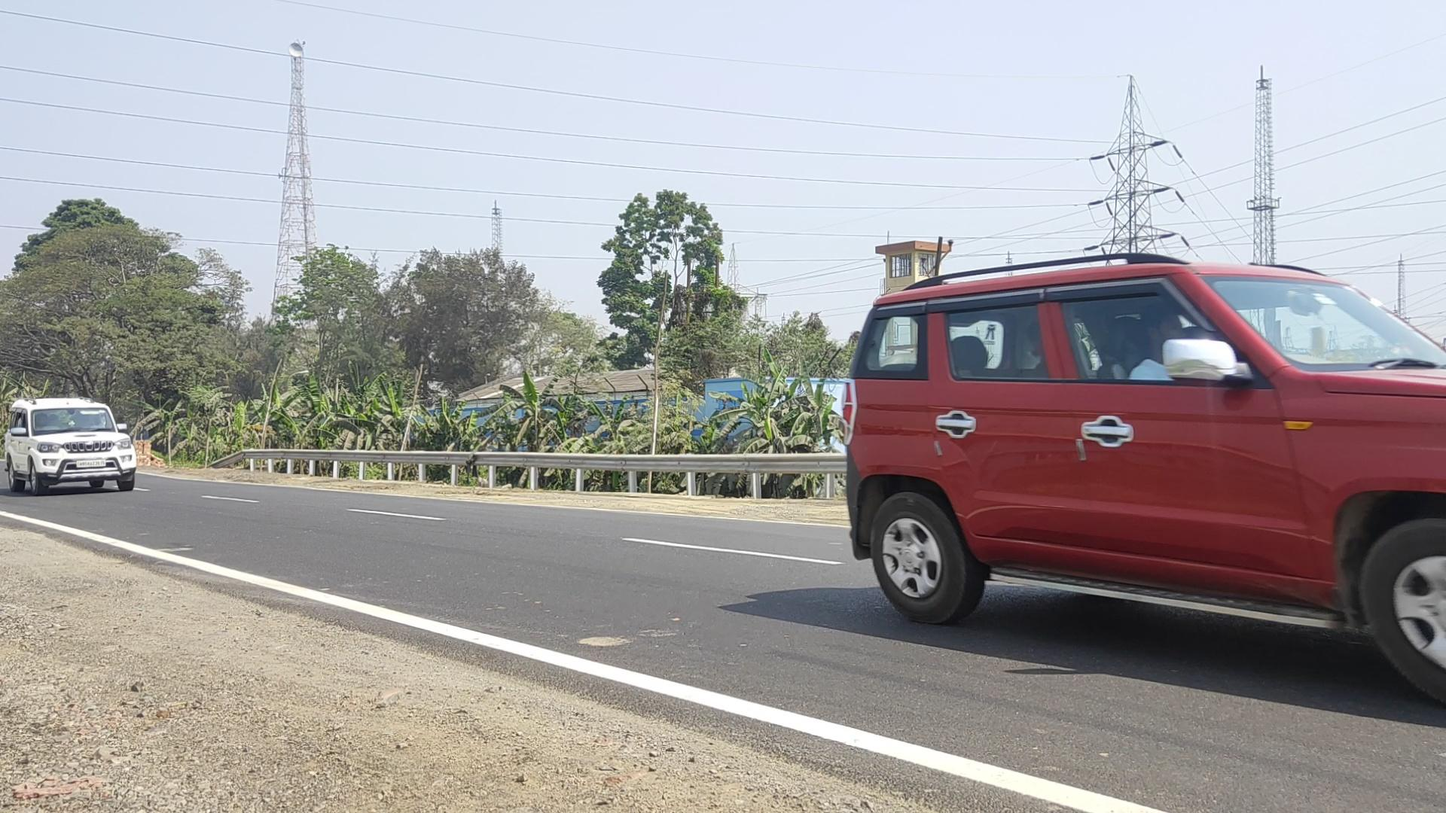car: (840, 252, 1446, 702), (5, 395, 137, 497)
